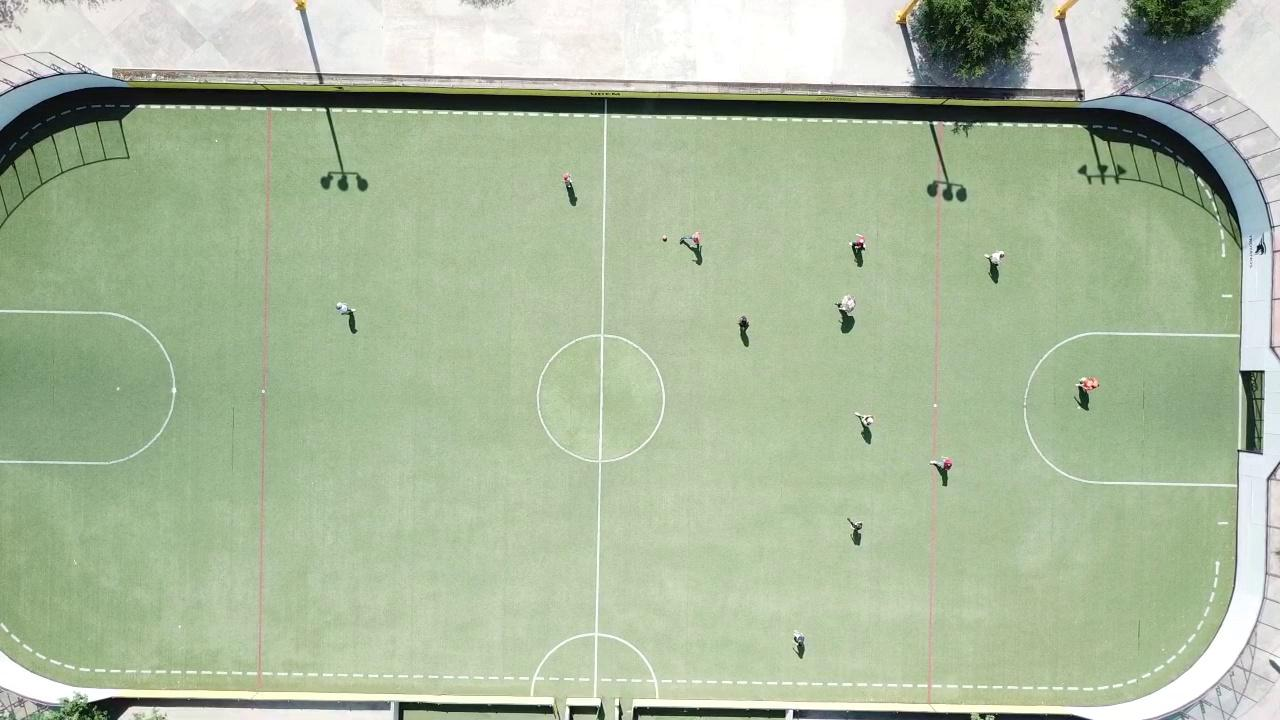ball: (662, 235, 668, 241)
player: (835, 295, 856, 316), (930, 457, 952, 473), (986, 250, 1006, 267), (850, 233, 867, 252), (854, 411, 874, 427), (1079, 377, 1099, 391), (335, 302, 354, 315), (738, 316, 750, 332), (563, 173, 575, 188), (850, 519, 861, 531), (793, 630, 804, 642), (693, 232, 700, 242)
